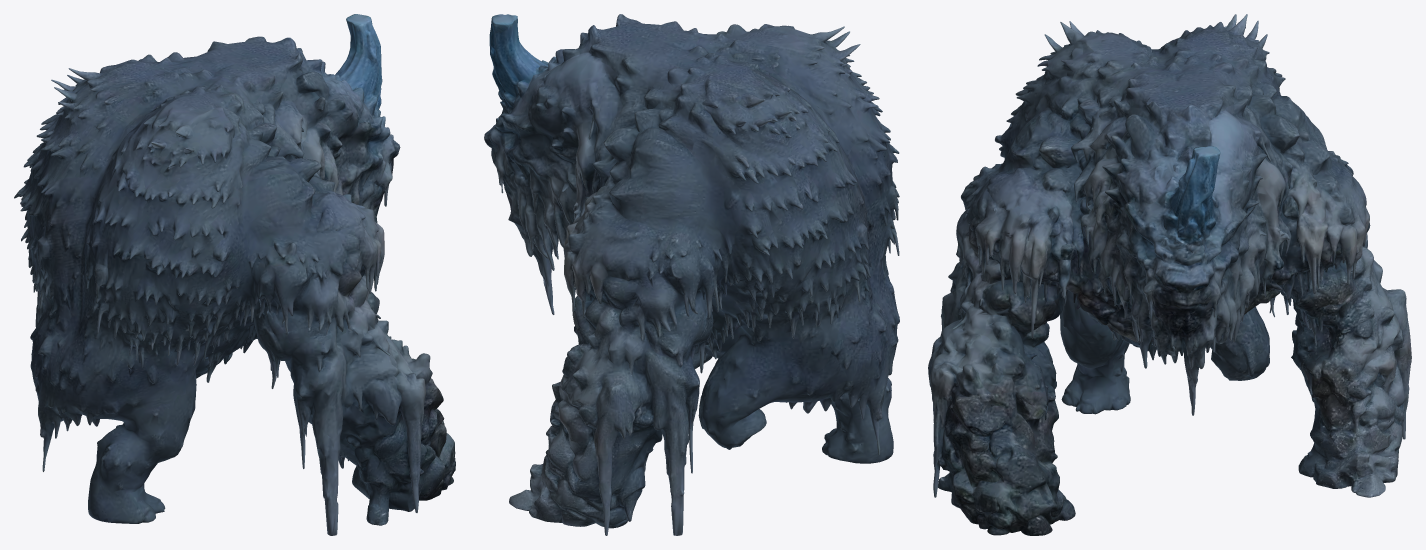
File: eis-mugosh-tripo-s1.glb
3 views of the same model, side by side, from view 1: azimuth 30°, elevation 25°; view 2: azimuth 150°, elevation 25°; view 3: azimuth 270°, elevation 25° (orthographic). The views are drawn at different scales.
Visible parts, largest first — view 1: tripo_node_4f265ea9-30ba-4e80-808a-2d1ddd1823c9; view 2: tripo_node_4f265ea9-30ba-4e80-808a-2d1ddd1823c9; view 3: tripo_node_4f265ea9-30ba-4e80-808a-2d1ddd1823c9.
Boxes of the visible parts, x1,y1,x2,y2 form: tripo_node_4f265ea9-30ba-4e80-808a-2d1ddd1823c9: (14, 14, 455, 535); tripo_node_4f265ea9-30ba-4e80-808a-2d1ddd1823c9: (484, 14, 899, 535); tripo_node_4f265ea9-30ba-4e80-808a-2d1ddd1823c9: (928, 14, 1411, 535).
Size of the model in its own units: 0.8908 by 0.9045 by 0.9998.
1 material, 1 textured.
